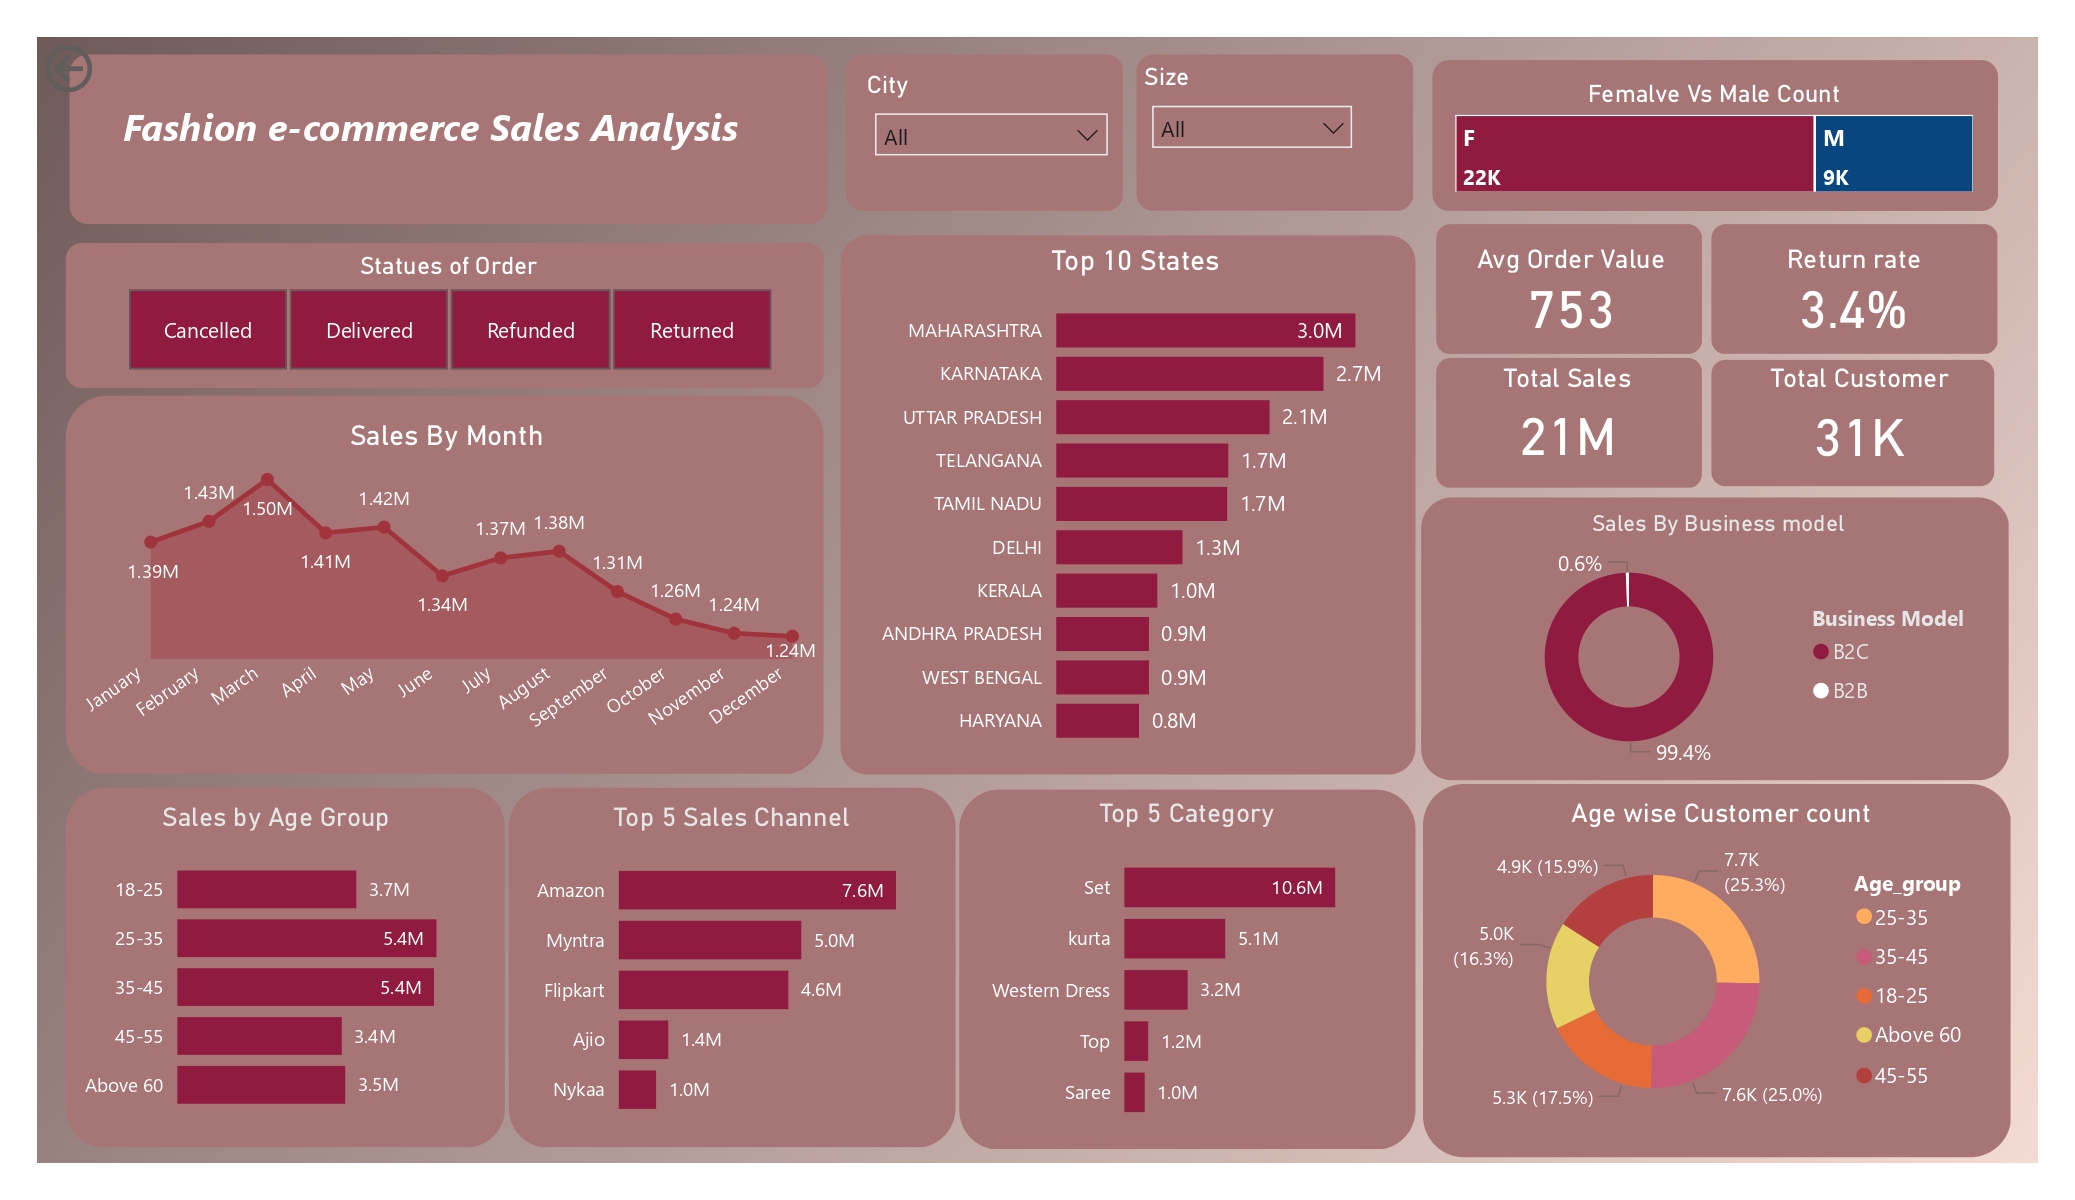

Layout of this report page (visuals, bound fields, positions):
{"tool":"powerbi","page":{"name":"Dashboard","canvas":[1280,720],"ordinal":0},"visuals":[{"type":"shape","box":[892.8,14.5,361.9,96.5],"z":0},{"type":"shape","box":[895.2,119.4,170.1,83.2],"z":1000},{"type":"shape","box":[1071.3,119.4,183.4,83.2],"z":2000},{"type":"shape","box":[513.9,126.7,368,345],"z":3000},{"type":"shape","box":[703.4,10.9,177.3,100.1],"z":4000},{"type":"shape","box":[517.6,10.9,177.3,100.1],"z":5000},{"type":"shape","box":[20.5,10.9,485,108.6],"z":6000},{"type":"shape","box":[18.1,229.2,485,242.5],"z":7000},{"type":"shape","box":[589.9,481.2,292,230.4],"z":8000},{"type":"shape","box":[885.5,294.1,376.4,181],"z":9000},{"type":"shape","box":[18.1,131.5,485,92.9],"z":10000},{"type":"shape","box":[886.7,477.6,376.4,238.9],"z":11000},{"type":"shape","box":[301.6,480,285.9,230.4],"z":12000},{"type":"shape","box":[1071.1,206.5,181,80.8],"z":13000},{"type":"shape","box":[895.2,205.1,170.1,83.2],"z":14000},{"type":"shape","box":[18.1,480.2,281.1,230.4],"z":15000},{"type":"barChart","title":"Sales by Age Group","fields":{"Category":["orders.Age_group"],"Y":["Sum(orders.Total Sale)"]},"box":[20.5,488.4,264.2,212.3],"z":16000},{"type":"card","title":"Total Sales","fields":{"Values":["Sum(orders.Total Sale)"]},"box":[892.8,207.7,172.5,71.2],"z":17000},{"type":"card","title":"Total Customer","fields":{"Values":["CountNonNull(orders.Cust ID)"]},"box":[1077.4,207.7,177.3,72.4],"z":18000},{"type":"clusteredBarChart","title":"Top 5 Sales Channel","fields":{"Category":["orders.Channel "],"Y":["Sum(orders.Total Sale)"]},"box":[310.1,488.4,267.8,216],"z":19000},{"type":"clusteredBarChart","title":"Top 5 Category","fields":{"Category":["orders.Category"],"Y":["Sum(orders.Total Sale)"]},"box":[599.6,486.2,279.9,220.8],"z":20000},{"type":"treemap","title":"Femalve Vs Male Count","fields":{"Group":["orders.Gender"],"Values":["CountNonNull(orders.Cust ID)"]},"box":[902.4,26.5,341.4,77.2],"z":21000},{"type":"clusteredBarChart","title":"Top 10 States","fields":{"Category":["orders.Ship-State"],"Y":["Sum(orders.Total Sale)"]},"box":[526,131.5,353.5,333],"z":22000},{"type":"actionButton","box":[0,0,100,40],"z":23000},{"type":"donutChart","title":" Sales By Business model","fields":{"Category":["orders.Business Model"],"Y":["Sum(orders.Total Sale)"]},"box":[896.4,302.5,358.3,170.1],"z":24000},{"type":"lineChart","title":"Sales By Month","fields":{"Category":["orders.Date.Variation.Date Hierarchy.Month"],"Y":["Sum(orders.Total Sale)"]},"box":[20.5,243.7,482.6,220.8],"z":25000},{"type":"donutChart","title":"Age wise Customer count","fields":{"Category":["orders.Age_group"],"Y":["CountNonNull(orders.Cust ID)"]},"box":[900,486,354.7,217.2],"z":26000},{"type":"textbox","box":[49.5,35,453.6,55.5],"z":27000},{"type":"slicer","title":"City ","fields":{"Values":["orders.Ship-City"]},"box":[526,20.5,168.9,80.8],"z":28000},{"type":"slicer","title":"Size ","fields":{"Values":["orders.Size"]},"box":[703.4,15.7,148.4,85.7],"z":29000},{"type":"card","title":"Avg Order Value","fields":{"Values":["orders.Average Order Value"]},"box":[896.4,131.5,170.1,60.3],"z":30000},{"type":"card","title":"Return rate","fields":{"Values":["orders.ReturnRate"]},"box":[1077.4,131.5,170.1,60.3],"z":31000},{"type":"slicer","title":"Statues of Order","fields":{"Values":["orders.Status"]},"box":[32.6,136.3,460.9,83.2],"z":32000}]}

Visuals, with their boxes in screenshot pixels (x1, y1, x2, y2):
shape: 1427 39 2006 194
shape: 1431 207 1703 340
shape: 1713 207 2006 340
shape: 822 219 1410 770
shape: 1125 34 1408 194
shape: 827 34 1111 194
shape: 33 34 808 207
shape: 29 383 804 770
shape: 943 785 1410 1154
shape: 1416 486 2017 776
shape: 29 226 804 375
shape: 1418 780 2019 1162
shape: 482 784 939 1152
shape: 1712 346 2002 476
shape: 1431 344 1703 477
shape: 29 784 478 1152
"Sales by Age Group" barChart: 33 797 455 1136
"Total Sales" card: 1427 348 1703 462
"Total Customer" card: 1722 348 2006 464
"Top 5 Sales Channel" clusteredBarChart: 496 797 924 1142
"Top 5 Category" clusteredBarChart: 959 793 1406 1146
"Femalve Vs Male Count" treemap: 1443 59 1988 182
"Top 10 States" clusteredBarChart: 841 226 1406 759
actionButton: 0 16 160 80
" Sales By Business model" donutChart: 1433 500 2006 772
"Sales By Month" lineChart: 33 406 804 759
"Age wise Customer count" donutChart: 1439 793 2006 1140
textbox: 79 72 804 161
"City " slicer: 841 49 1111 178
"Size " slicer: 1125 41 1362 178
"Avg Order Value" card: 1433 226 1705 323
"Return rate" card: 1722 226 1994 323
"Statues of Order" slicer: 52 234 789 367
